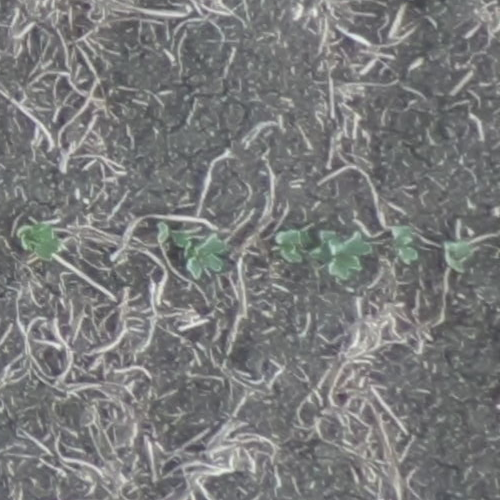clumped: (313, 224, 371, 281)
isolated: (187, 235, 227, 281), (440, 235, 475, 275), (26, 223, 61, 262), (391, 224, 419, 265), (272, 228, 305, 262)
